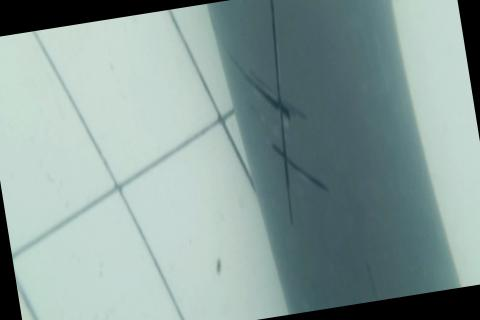keretakan: (224, 0, 335, 232)
